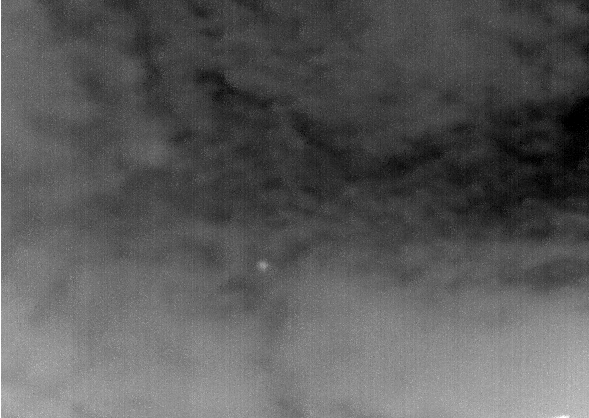dim target: (256, 258, 270, 273)
